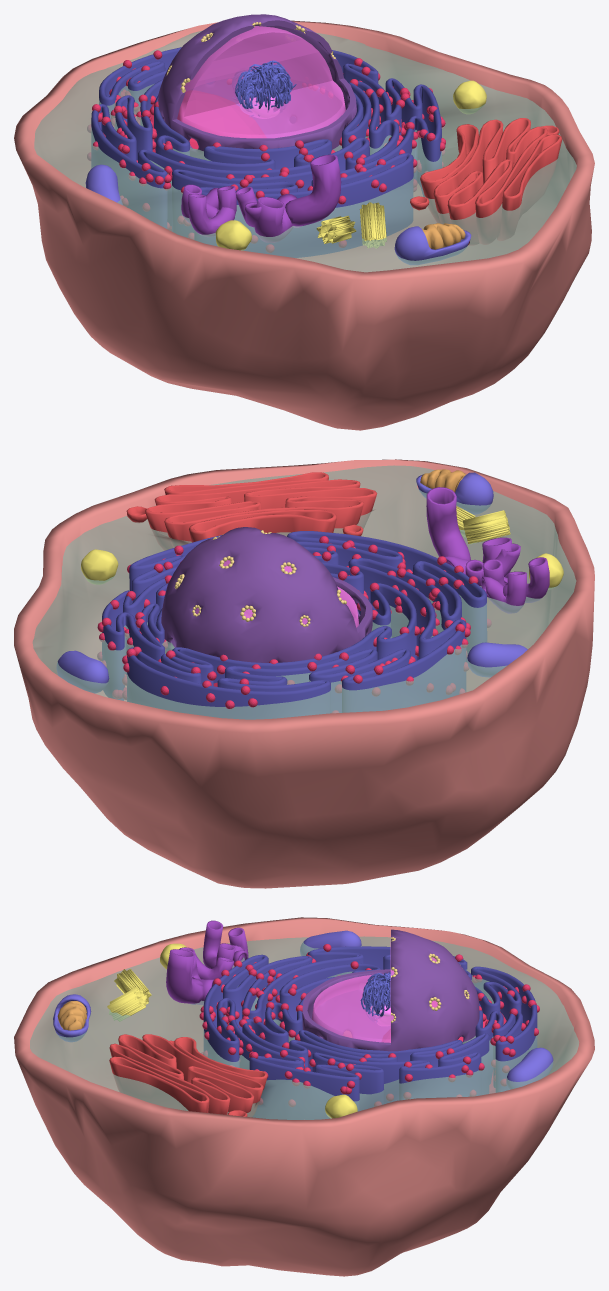
File: cell.glb
3 views of the same model, one above another, from view 1: azimuth 30°, elevation 25°; view 2: azimuth 150°, elevation 25°; view 3: azimuth 270°, elevation 25° (orthographic). The views are drawn at different scales.
Parts seen in each view (by area): view 1: Sphere_13, Sphere.001_18, BezierCurve_15, BezierCurve.002_14, Roundcube_10, Icosphere_16, BezierCurve.006_27, Roundcube.000_12, Sphere.023_22, Sphere.002_17, BezierCurve.004_26, Object_4054 (+3 smaller); view 2: Sphere_13, BezierCurve_15, Sphere.001_18, Icosphere_16, BezierCurve.002_14, Sphere.002_17, BezierCurve.006_27, Roundcube.000_12, BezierCurve.005_25, BezierCurve.004_26, Icosphere.002_9, Sphere.005_8; view 3: Sphere_13, BezierCurve_15, Sphere.001_18, Icosphere_16, BezierCurve.002_14, Roundcube_10, Sphere.002_17, Roundcube.000_12, BezierCurve.006_27, BezierCurve.004_26, BezierCurve.005_25, Sphere.005_8 (+1 smaller).
Part boxes in pixels (x1=…): Sphere_13: x1=14, y1=20, x2=594, y2=430; Sphere.001_18: x1=34, y1=31, x2=576, y2=272; BezierCurve_15: x1=91, y1=47, x2=441, y2=257; BezierCurve.002_14: x1=410, y1=118, x2=562, y2=245; Roundcube_10: x1=177, y1=26, x2=345, y2=139; Icosphere_16: x1=158, y1=14, x2=356, y2=159; BezierCurve.006_27: x1=254, y1=154, x2=341, y2=242; Roundcube.000_12: x1=215, y1=80, x2=486, y2=250; Sphere.023_22: x1=135, y1=90, x2=266, y2=230; Sphere.002_17: x1=85, y1=164, x2=471, y2=264; BezierCurve.004_26: x1=188, y1=187, x2=261, y2=236; Object_4054: x1=232, y1=62, x2=291, y2=115; Sphere_13: x1=14, y1=459, x2=594, y2=888; BezierCurve_15: x1=102, y1=531, x2=486, y2=719; Sphere.001_18: x1=32, y1=465, x2=576, y2=719; Icosphere_16: x1=161, y1=527, x2=372, y2=662; BezierCurve.002_14: x1=126, y1=472, x2=377, y2=550; Sphere.002_17: x1=56, y1=472, x2=527, y2=693; BezierCurve.006_27: x1=426, y1=487, x2=511, y2=577; Roundcube.000_12: x1=81, y1=506, x2=563, y2=589; BezierCurve.005_25: x1=481, y1=559, x2=526, y2=613; BezierCurve.004_26: x1=465, y1=543, x2=549, y2=602; Icosphere.002_9: x1=174, y1=530, x2=346, y2=626; Sphere.005_8: x1=420, y1=469, x2=465, y2=492; Sphere_13: x1=14, y1=917, x2=594, y2=1276; BezierCurve_15: x1=203, y1=946, x2=537, y2=1119; Sphere.001_18: x1=30, y1=936, x2=578, y2=1119; Icosphere_16: x1=302, y1=929, x2=479, y2=1051; BezierCurve.002_14: x1=109, y1=1034, x2=267, y2=1116; Roundcube_10: x1=311, y1=941, x2=466, y2=1042; Sphere.002_17: x1=53, y1=930, x2=553, y2=1089; Roundcube.000_12: x1=107, y1=943, x2=357, y2=1118; BezierCurve.006_27: x1=166, y1=949, x2=213, y2=1004; BezierCurve.004_26: x1=179, y1=920, x2=233, y2=979; BezierCurve.005_25: x1=216, y1=927, x2=248, y2=967; Sphere.005_8: x1=57, y1=1001, x2=86, y2=1030.
Size of the model in its own units: 5.96 by 3.98 by 7.04.
